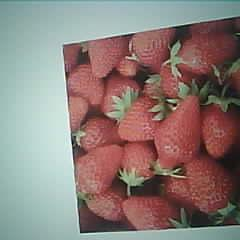straw-ripe: (153, 96, 203, 170), (185, 156, 235, 212), (73, 145, 123, 196)
